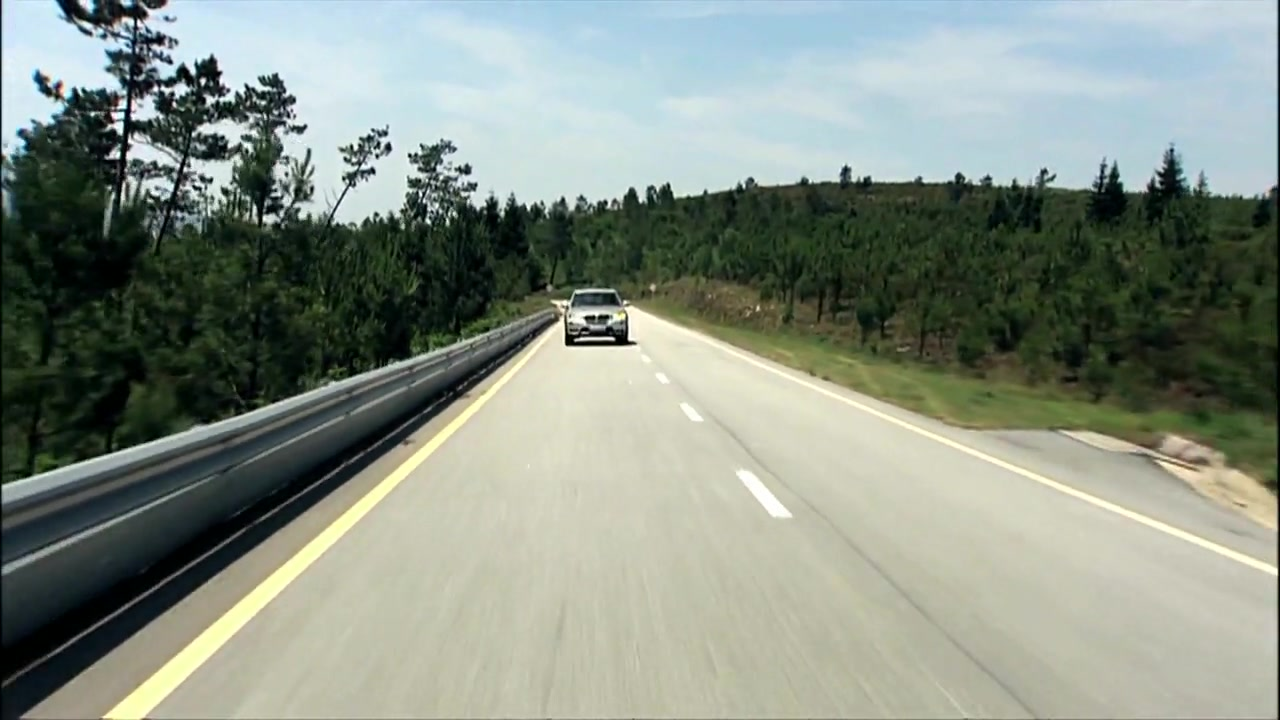car: (564, 288, 633, 347)
